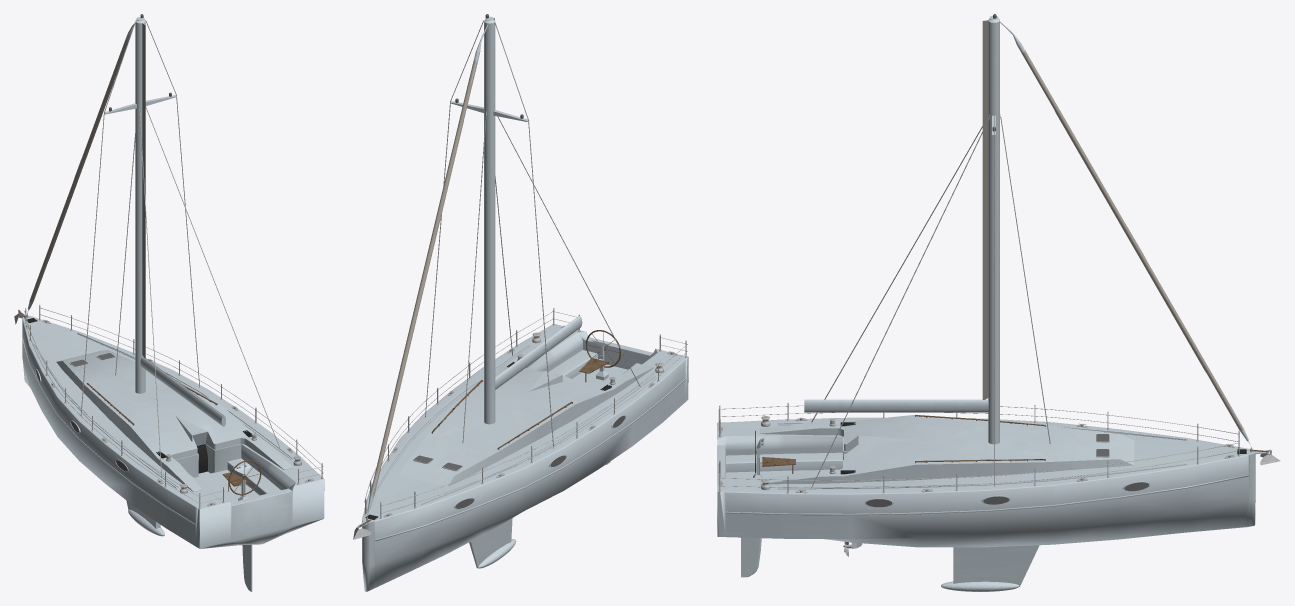
3 renders of one model, left to right at view 1: azimuth 30°, elevation 25°; view 2: azimuth 150°, elevation 25°; view 3: azimuth 270°, elevation 25°, orthographic. The views are drawn at different scales.
Visible parts, largest first — view 1: govde_fiberglass_0, govde_metal_0, direk_bez_0, object 4; view 2: govde_fiberglass_0, govde_metal_0, direk_bez_0, object 4, ikazlamba_cam_0; view 3: govde_fiberglass_0, govde_metal_0, direk_bez_0, object 4, ikazlamba_cam_0.
Boxes of the visible parts, x1,y1,x2,y2 form: govde_fiberglass_0: (19,17,324,591); govde_metal_0: (14,18,323,508); direk_bez_0: (29,23,145,358); object 4: (19,311,261,495); govde_fiberglass_0: (359,16,688,591); govde_metal_0: (353,18,687,539); direk_bez_0: (370,18,494,496); object 4: (359,330,620,526); ikazlamba_cam_0: (413,14,625,508); govde_fiberglass_0: (717,15,1268,591); govde_metal_0: (718,18,1280,556); direk_bez_0: (982,20,1243,430); object 4: (755,415,1268,473); ikazlamba_cam_0: (761,14,1148,507).
Size of the model in its own units: 18.45 by 64.35 by 56.85.
Materials: 6 (5 with a texture image).
